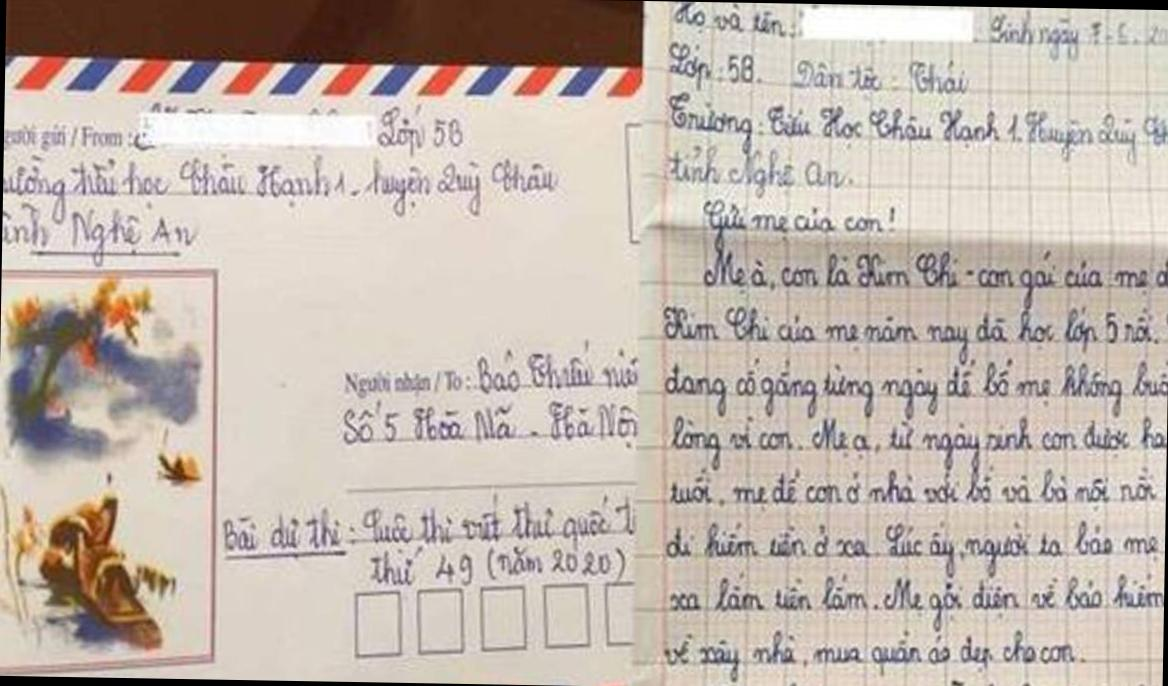text: (2, 144, 563, 236), (661, 348, 1168, 428), (663, 88, 1168, 168), (660, 295, 1168, 373), (664, 406, 1167, 484), (663, 510, 1165, 584), (667, 564, 1164, 638), (222, 484, 640, 569), (699, 242, 1168, 317), (664, 460, 1166, 518), (662, 621, 1087, 686), (341, 331, 642, 408), (666, 40, 974, 102), (340, 393, 640, 455), (2, 199, 203, 273), (366, 539, 628, 594), (700, 200, 898, 258), (666, 144, 858, 203), (989, 7, 1168, 66), (707, 673, 1162, 686), (375, 97, 467, 161), (671, 2, 790, 42), (3, 118, 131, 155)
